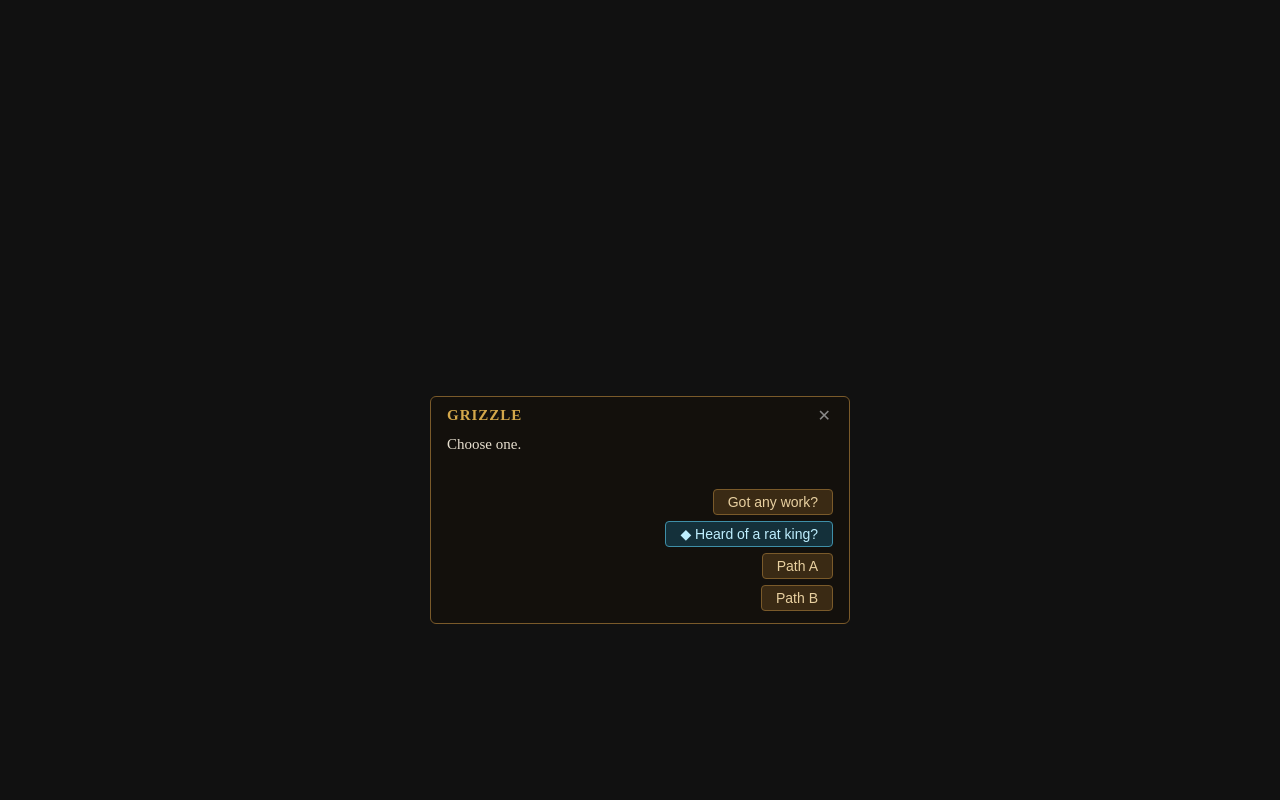
Scenario: DialogueWindow › quest offers › starts the quest on choosing it, with the description as the reply
This screenshot has width=1280, height=800.
Click the button "Got any work?".
click(773, 502)  # box [713, 489, 833, 515]
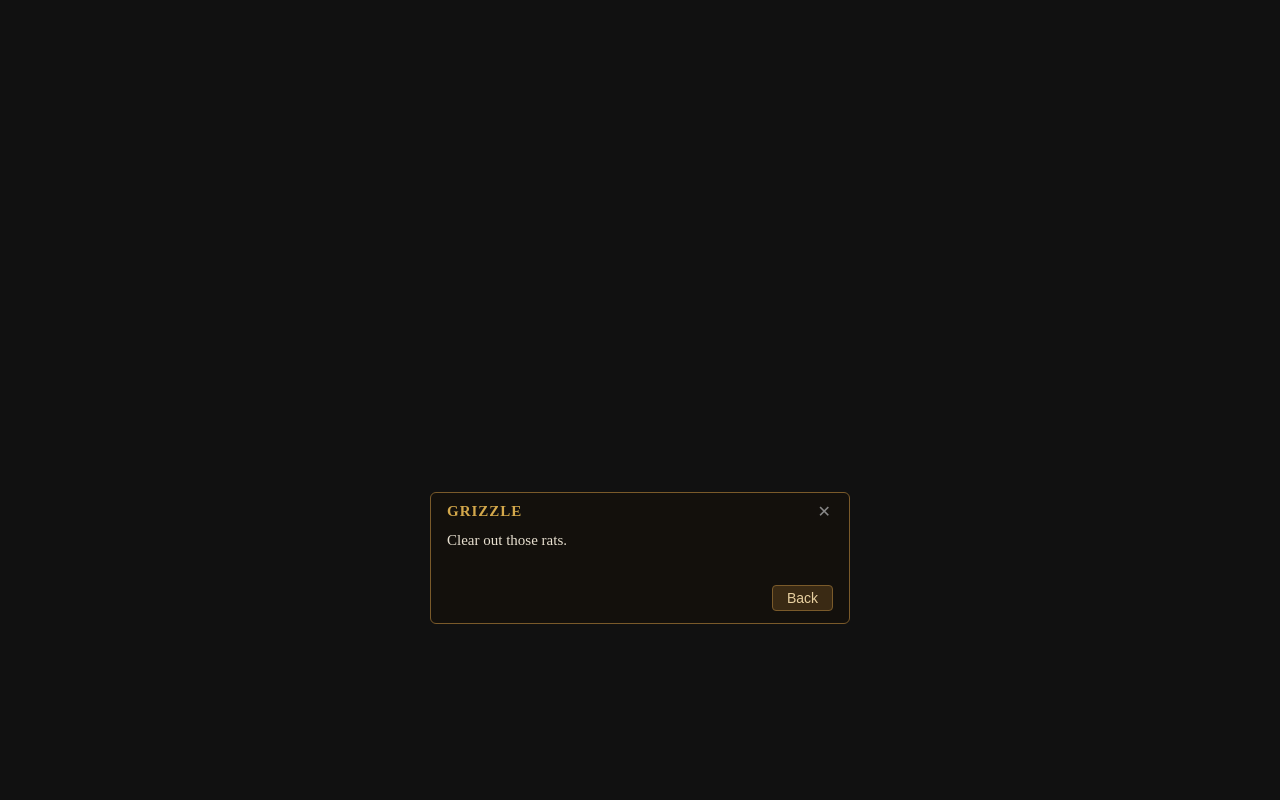
Result: the text "Clear out those rats." is shown at [447, 532, 567, 548]
